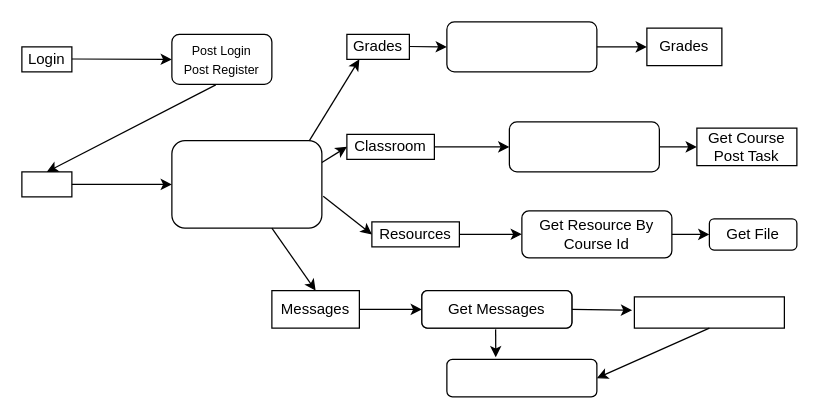
This 819x419 diagram has some shape labels left out. The shapes that lost their labels are listed below. From the top down, each one's box as (x1, y1, x2, y2) in pixels, then its label:
(446, 21, 597, 72): Get Cicle Get Observations
(508, 121, 659, 172): Get Course Get Task
(21, 171, 72, 197): Home
(171, 139, 322, 228): Get Grades Get Classroom Get Resources Get Messages
(633, 296, 784, 328): Get Message
(446, 358, 597, 397): Post Message
